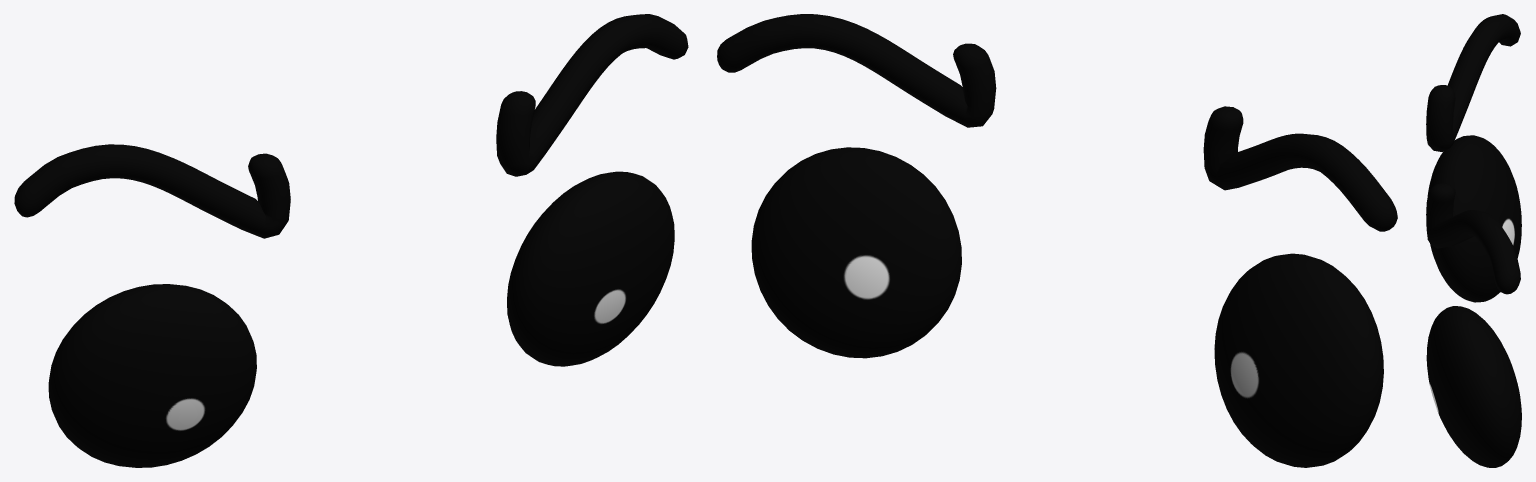
The picture shows the model from 3 angles, left to right: view 1: azimuth 30°, elevation 25°; view 2: azimuth 150°, elevation 25°; view 3: azimuth 270°, elevation 25°; orthographic projection. The views are drawn at different scales.
Parts seen in each view (by area): view 1: REye_mesh.4, LEye_mesh.5, RBrow_mesh.2, LBrow_mesh.3; view 2: LEye_mesh.5, REye_mesh.4, LBrow_mesh.3, RBrow_mesh.2; view 3: LEye_mesh.5, REye_mesh.4, RBrow_mesh.2, LBrow_mesh.3.
Part boxes in pixels (x1,y1,x2,y2): REye_mesh.4: [48, 284, 256, 467]; LEye_mesh.5: [507, 171, 674, 366]; RBrow_mesh.2: [14, 144, 290, 238]; LBrow_mesh.3: [496, 14, 688, 176]; LEye_mesh.5: [751, 147, 961, 358]; REye_mesh.4: [1214, 253, 1383, 467]; LBrow_mesh.3: [717, 14, 996, 127]; RBrow_mesh.2: [1203, 106, 1397, 231]; LEye_mesh.5: [1426, 306, 1521, 467]; REye_mesh.4: [1427, 135, 1521, 302]; RBrow_mesh.2: [1426, 14, 1520, 151]; LBrow_mesh.3: [1426, 183, 1520, 294].
Size of the model in its own units: 0.3995 by 0.187 by 0.0629.
4 materials, 2 textured.
